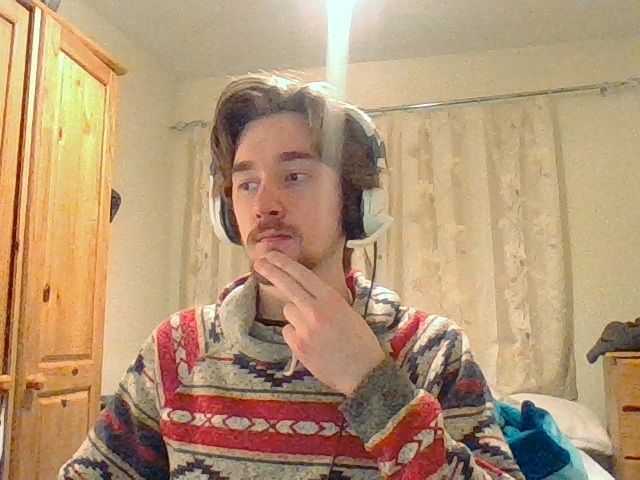afternoon: (252, 251, 387, 387)
